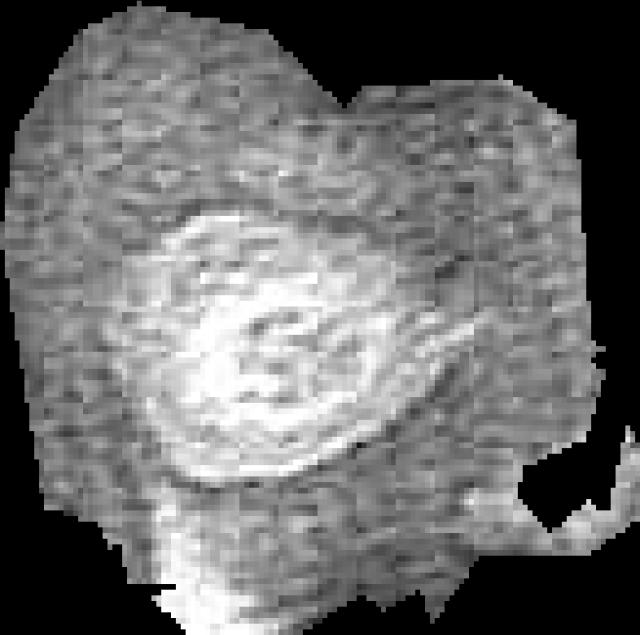tumor_good_chance: (0, 1, 640, 635)
